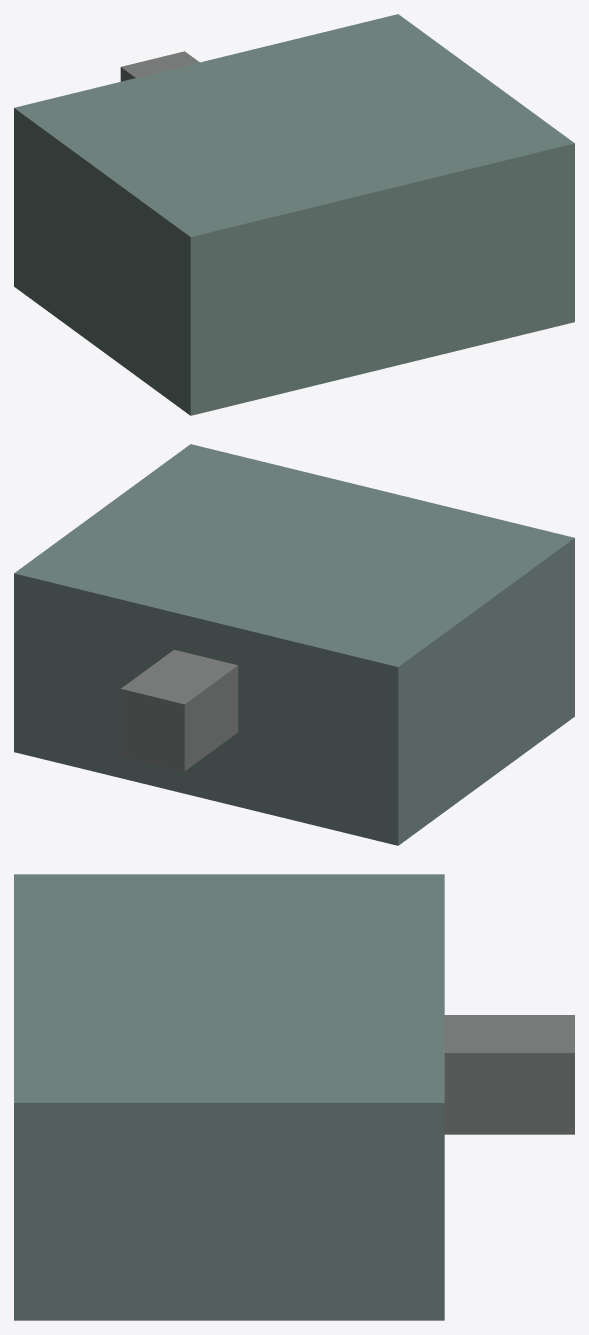
File: report-terminal-high.glb
The picture shows the model from 3 angles, top to bottom: view 1: azimuth 30°, elevation 25°; view 2: azimuth 150°, elevation 25°; view 3: azimuth 270°, elevation 25°; orthographic projection. The views are drawn at different scales.
Parts seen in each view (by area): view 1: body, stand; view 2: body, stand; view 3: body, stand.
Part boxes in pixels (x1,y1,x2,y2): body: (14, 14, 574, 415); stand: (120, 51, 199, 81); body: (14, 444, 574, 845); stand: (120, 649, 238, 771); body: (14, 874, 444, 1320); stand: (444, 1015, 574, 1134).
Size of the model in its own units: 1.08 by 0.5125 by 1.12.
